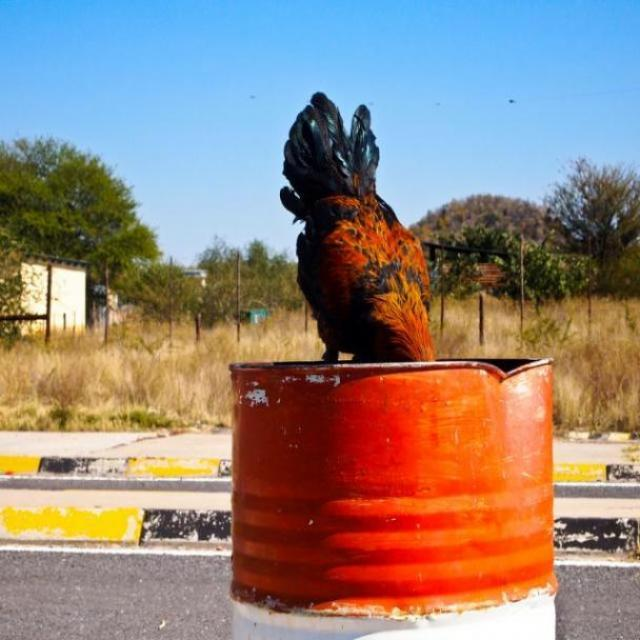Chicken: (279, 99, 433, 370)
